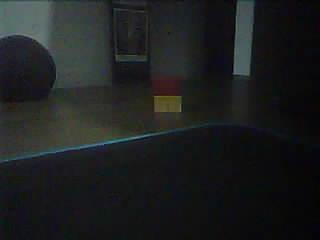lego: (151, 75, 184, 112)
